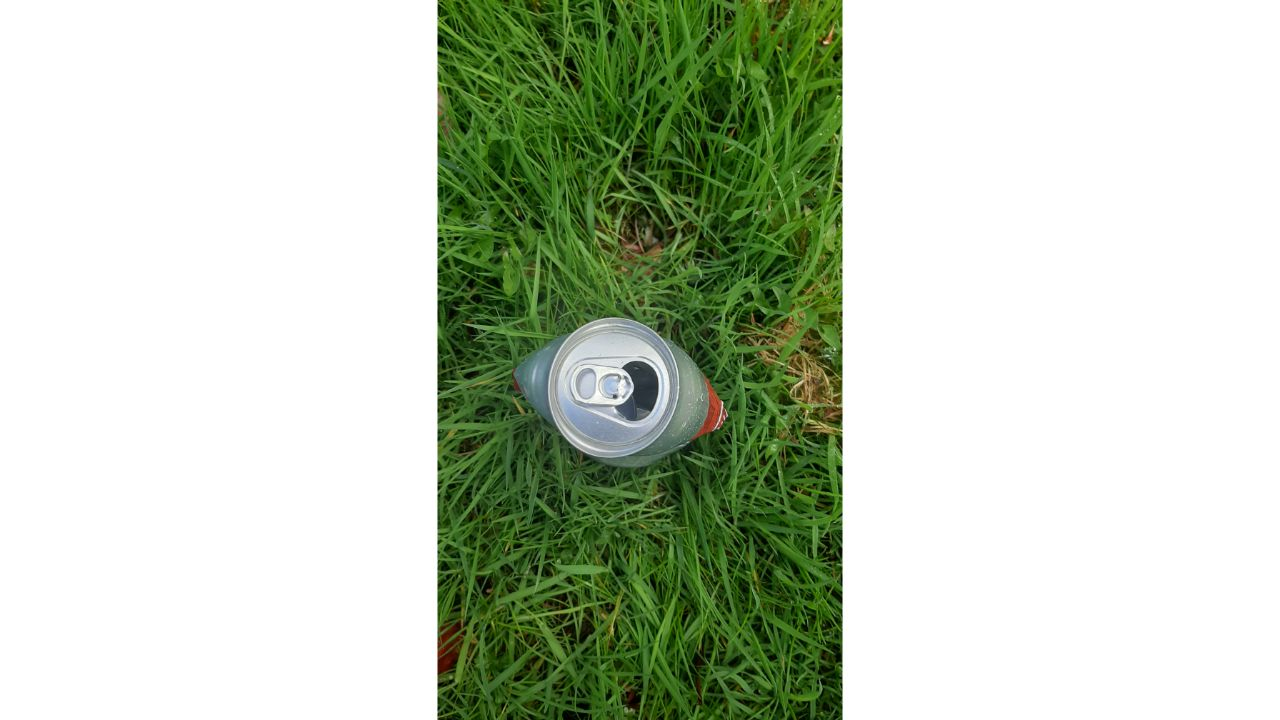Can: (503, 302, 749, 480)
